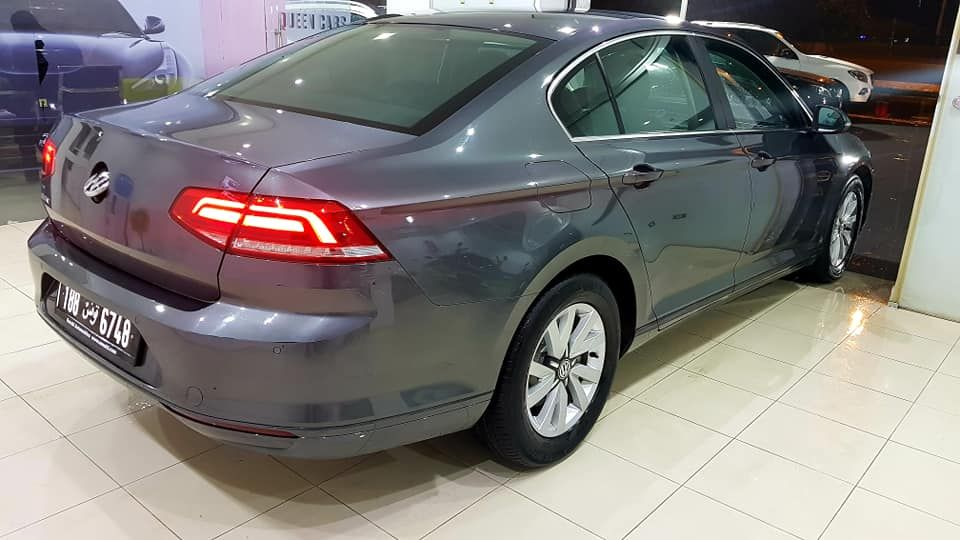LP: (52, 277, 141, 366)
